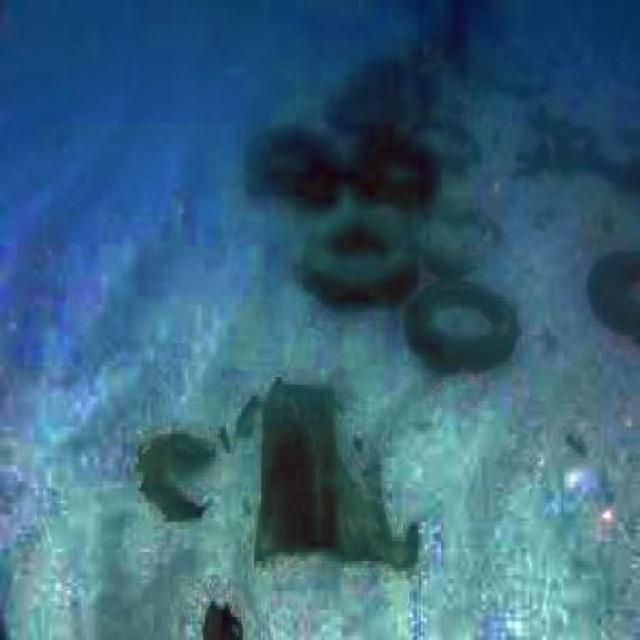tire: (403, 263, 551, 419), (230, 107, 345, 236), (289, 217, 416, 328), (354, 121, 437, 237)
